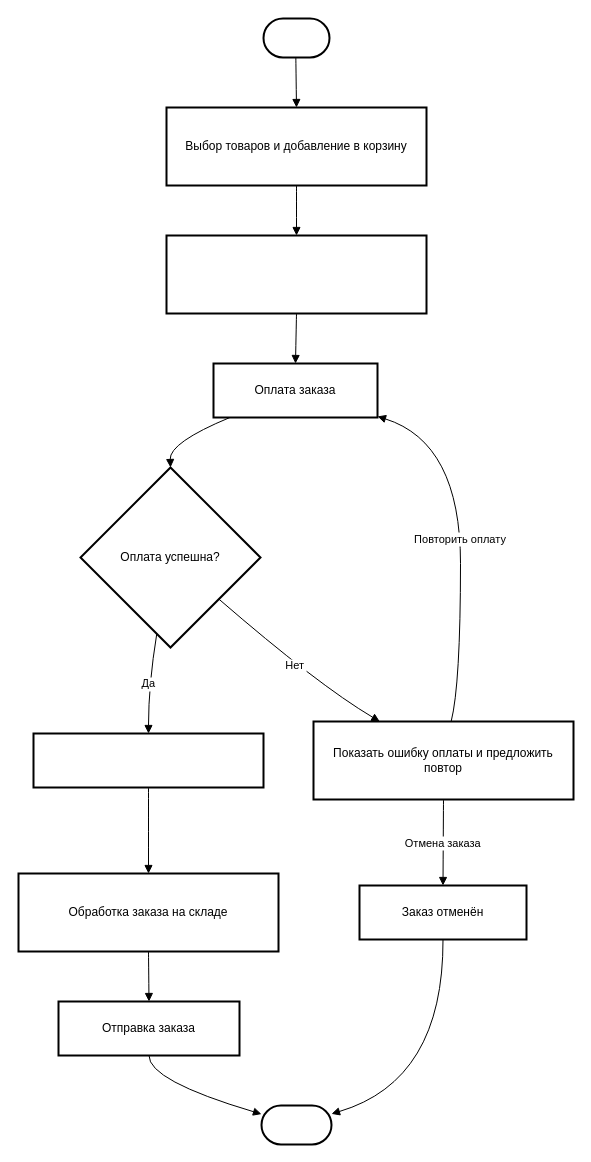
Image size: 591x1162. Some labels were removed from this diagram. Here are the shapes that lost their labels. From the top down, the box of each, then its label:
(262, 17, 330, 58): Старт
(165, 234, 427, 314): Оформление заказа и ввод данных доставки
(32, 732, 264, 788): Подтверждение заказа
(260, 1104, 332, 1145): Конец
